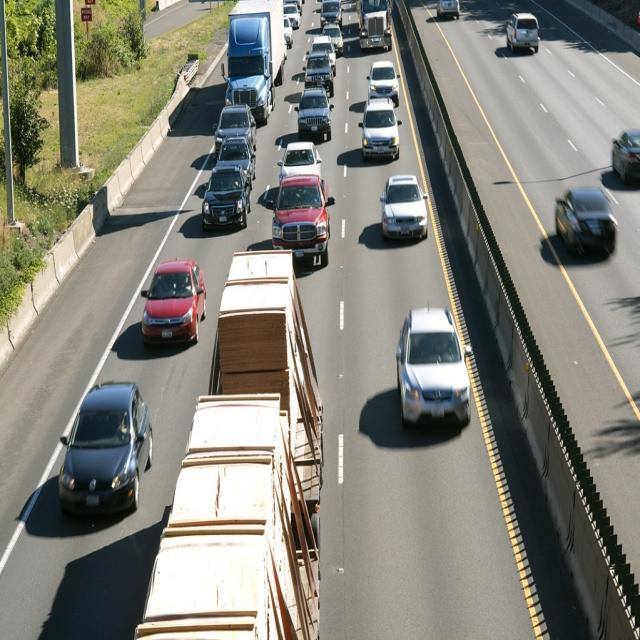Caminhao: (223, 0, 285, 121)
Carro Branco: (505, 11, 541, 48)
Carro Prata: (396, 306, 469, 433), (377, 172, 427, 235), (278, 136, 324, 198), (360, 98, 401, 166), (366, 64, 401, 108)
Carro Preto: (51, 382, 156, 535), (554, 188, 622, 255), (200, 161, 252, 229), (212, 106, 255, 157), (296, 92, 338, 144), (608, 126, 640, 190), (218, 136, 252, 176)
Carro Vermelho: (269, 178, 334, 268), (141, 262, 206, 349)
